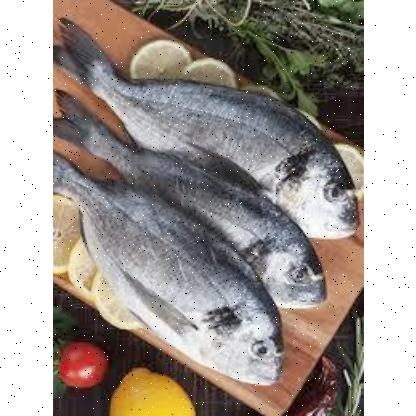ikan-pacu: (61, 34, 359, 242), (52, 175, 283, 393), (103, 132, 337, 302)
